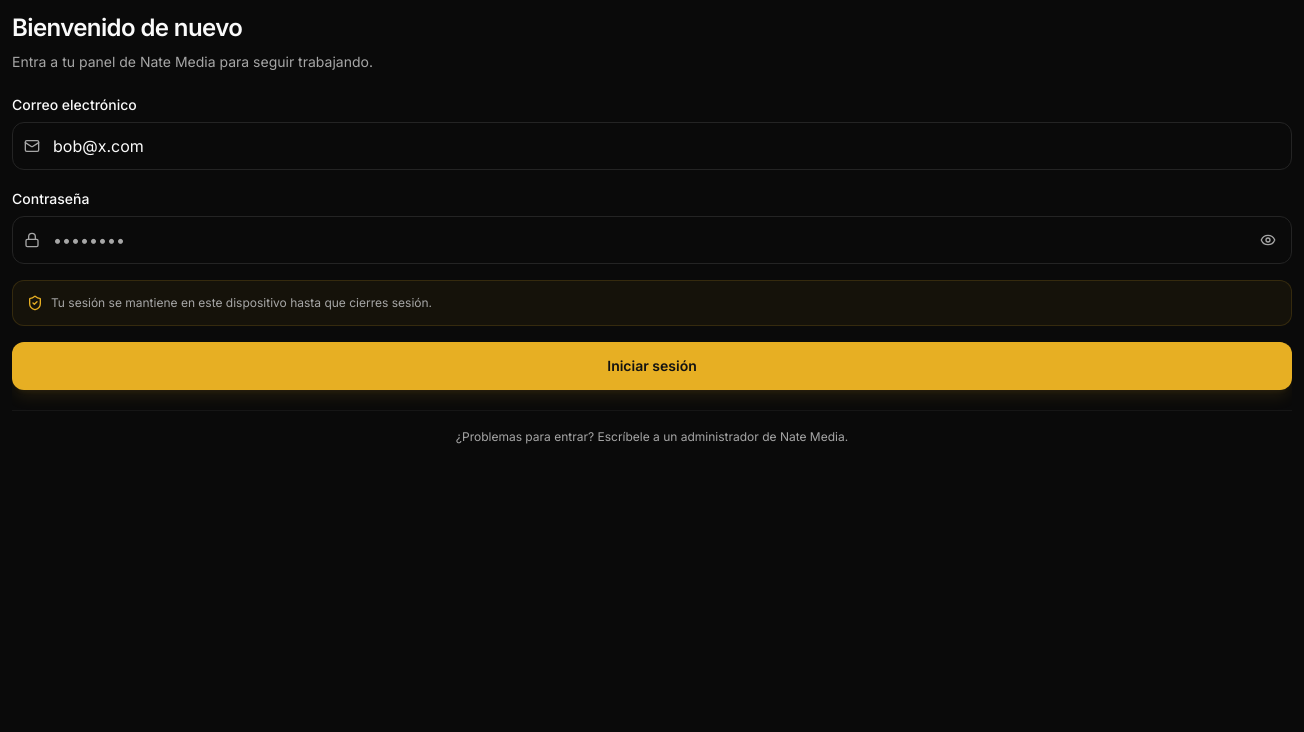
LoginForm — accesibilidad durante el acceso › anuncia el formulario ocupado y evita reenvíos mientras entra
Replace the text in the field labelled "Correo electrónico" with "a@b.com": coordinates (652, 146) [12,122,1292,170]
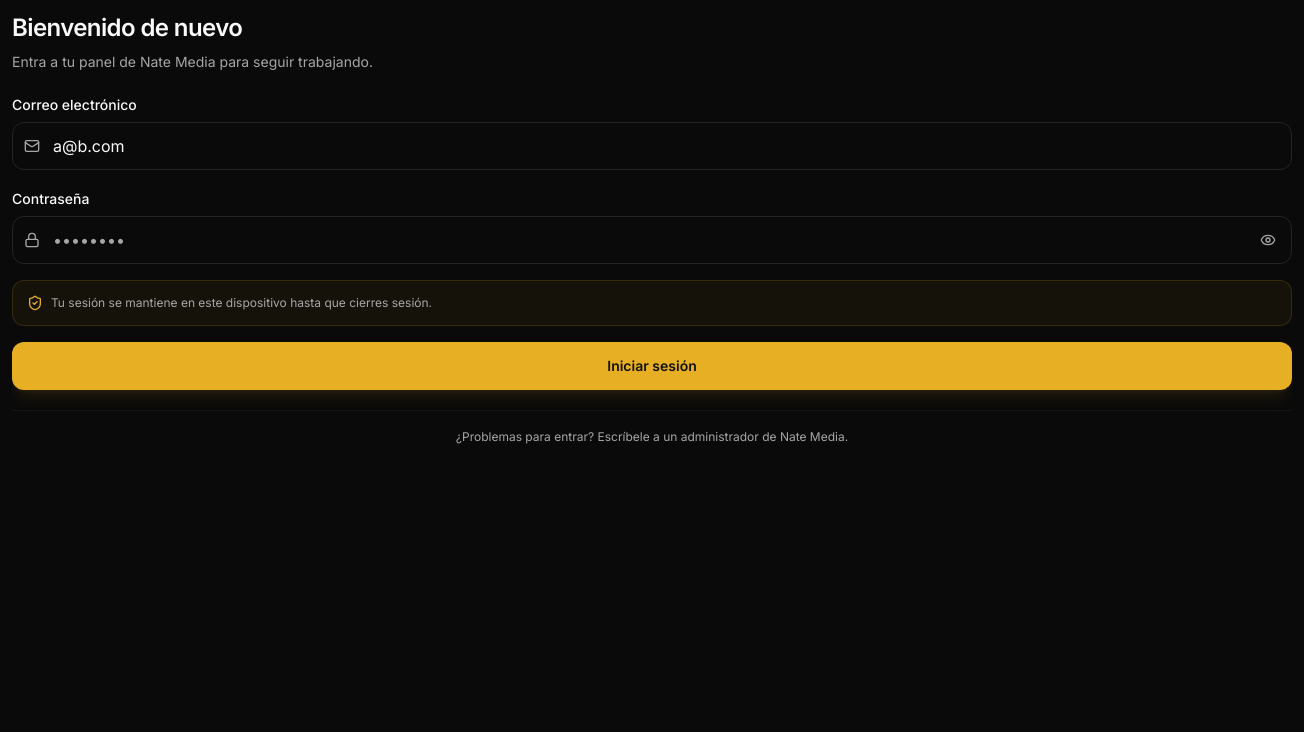
In the password field labelled "Contraseña": coordinates (652, 240) [12,216,1292,264], type "x"
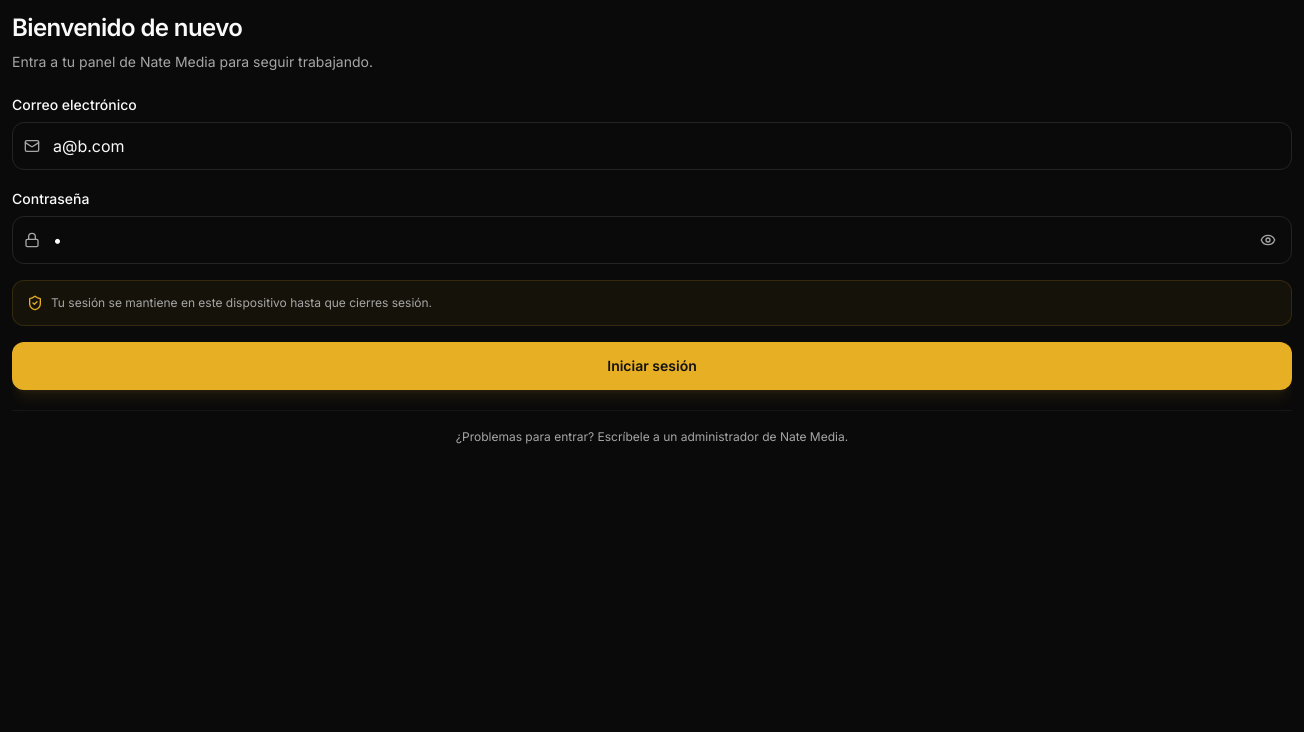
Submit the form named "acceso a nate media", box [12,92,1292,390]
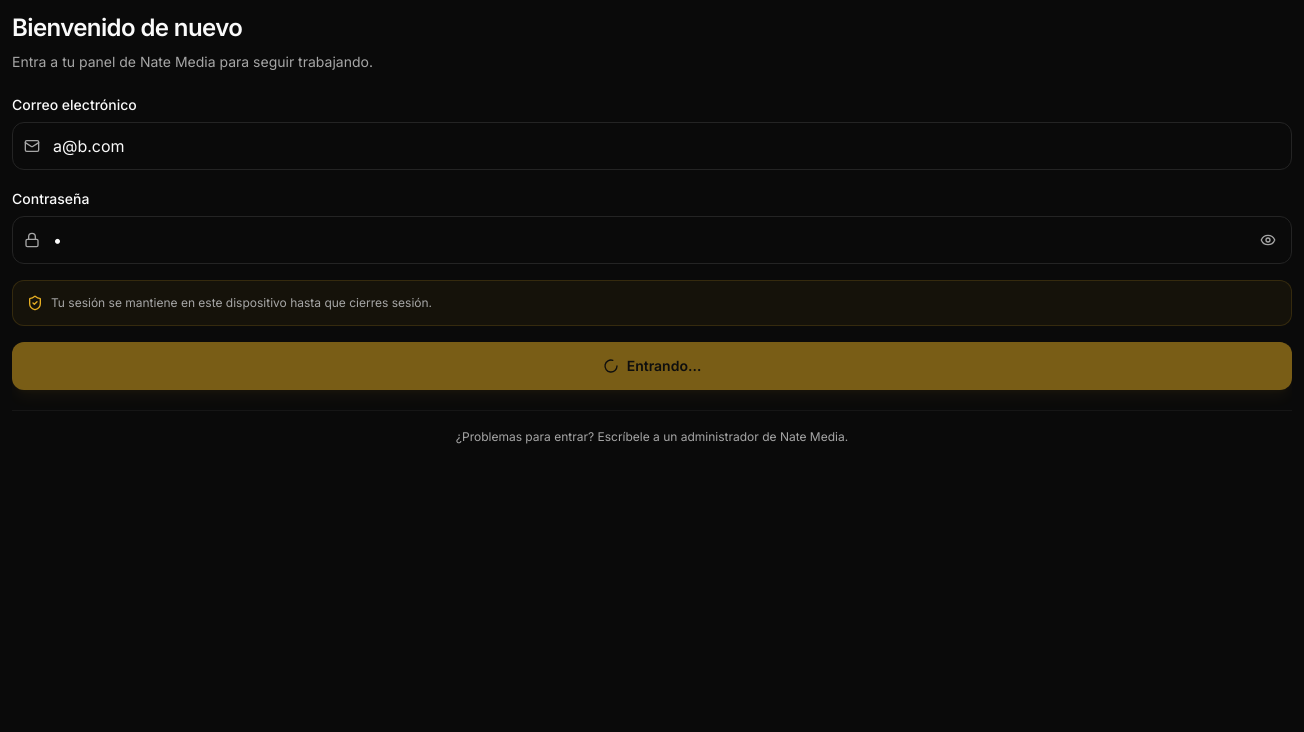
Result: the form named "acceso a nate media" has attribute aria-busy="true"
Submit the form named "acceso a nate media", box [12,92,1292,390]
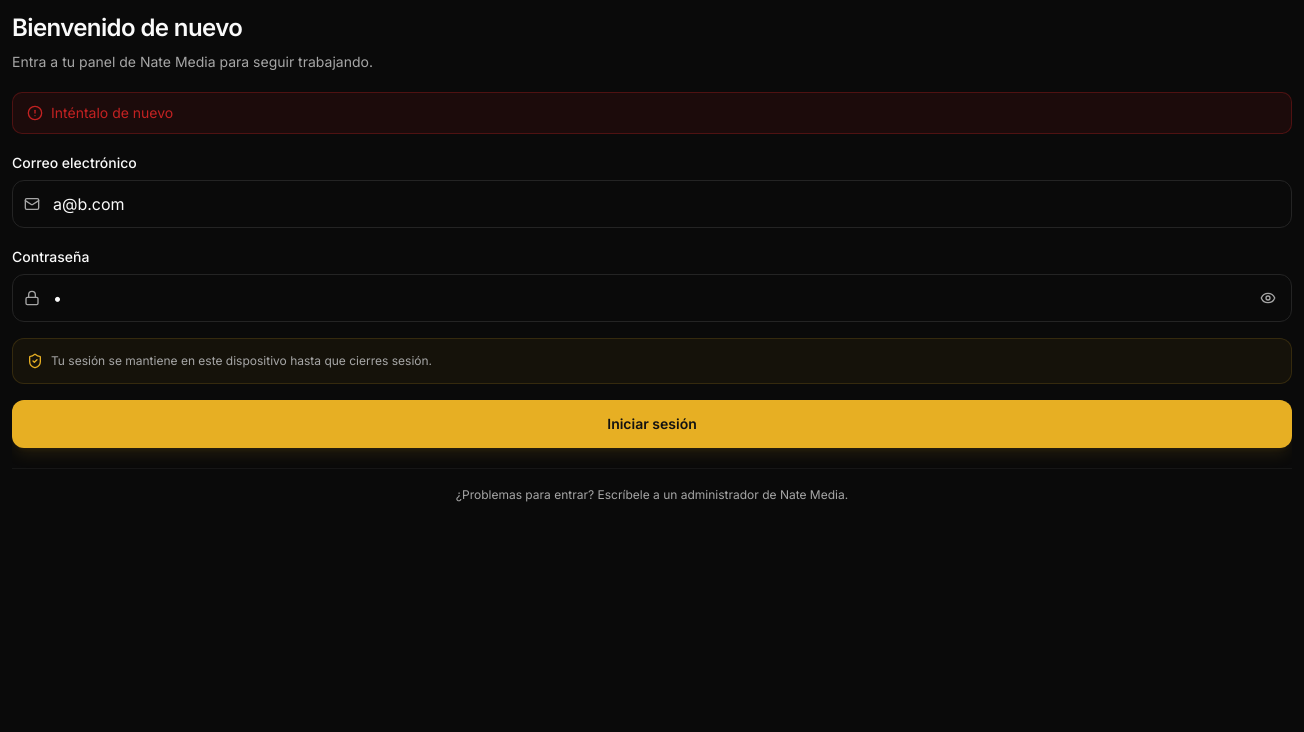
Result: the message reads "Inténtalo de nuevo" at [51,104,173,121]
